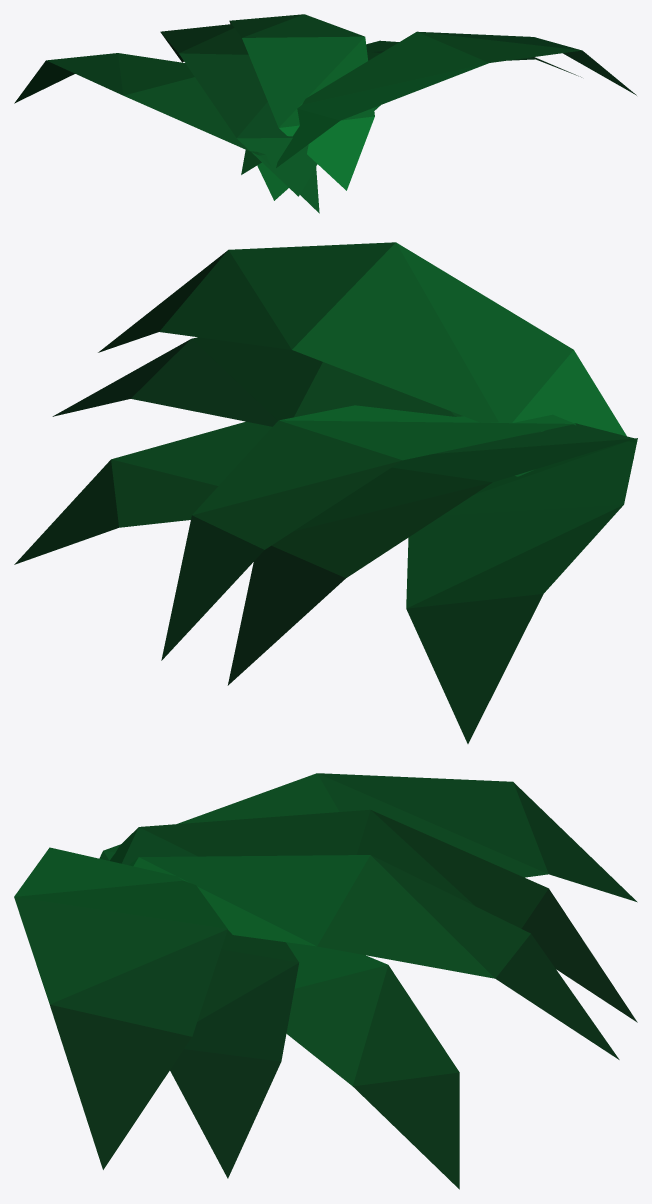
Rendered from tarromin.obj.
3 views of the same model, one above another, from view 1: azimuth 30°, elevation 25°; view 2: azimuth 150°, elevation 25°; view 3: azimuth 270°, elevation 25° (orthographic). The views are drawn at different scales.
Visible parts, largest first — view 1: Item Tarromin 2026-10-08_15-33-31; view 2: Item Tarromin 2026-10-08_15-33-31; view 3: Item Tarromin 2026-10-08_15-33-31.
Boxes of the visible parts, x1,y1,x2,y2 form: Item Tarromin 2026-10-08_15-33-31: (14,14,636,213); Item Tarromin 2026-10-08_15-33-31: (14,242,637,743); Item Tarromin 2026-10-08_15-33-31: (14,773,637,1189).
Size of the model in its own units: 43 by 13 by 35.
